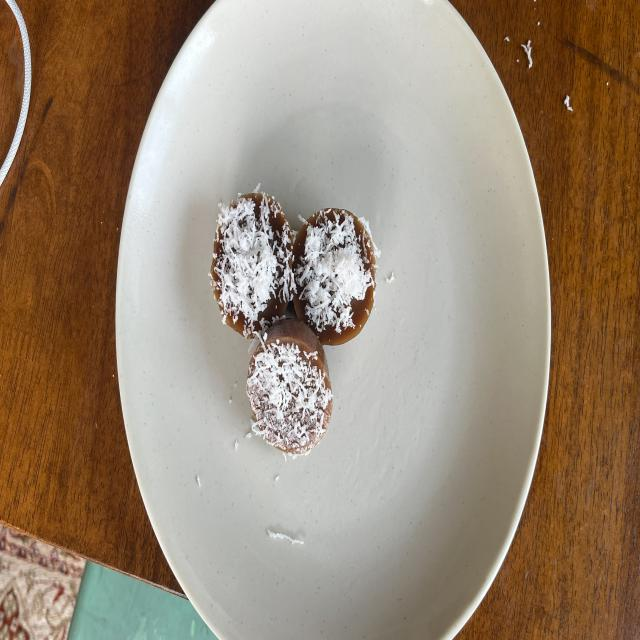Kuih lompang: (211, 191, 295, 338), (246, 318, 332, 456), (292, 209, 376, 344)
